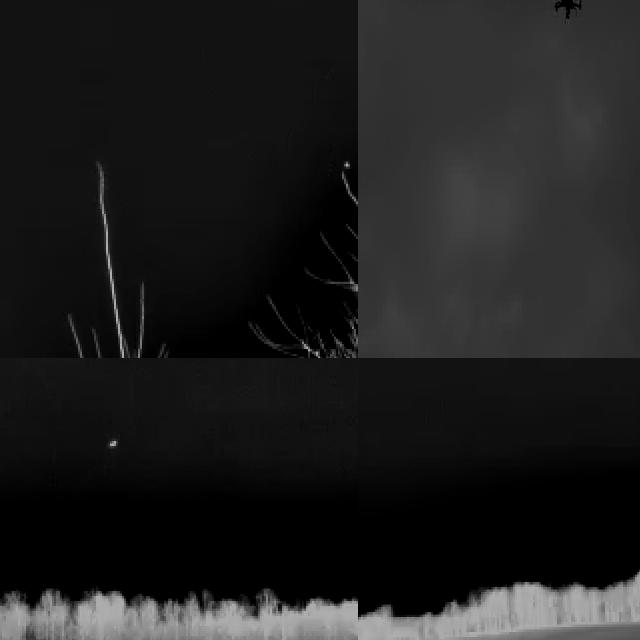0: (333, 154, 355, 179)
1: (98, 431, 122, 456)
drone: (549, 0, 588, 24)
